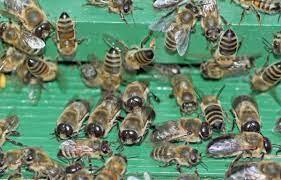worker-bee: (149, 1, 200, 55), (103, 32, 154, 71), (206, 132, 271, 159), (84, 93, 121, 137), (150, 117, 211, 143), (150, 142, 202, 171), (53, 99, 89, 139), (118, 105, 154, 144), (199, 85, 226, 132), (57, 138, 112, 159), (121, 81, 159, 111), (55, 11, 79, 58), (231, 94, 261, 131), (250, 55, 280, 91), (170, 74, 197, 113), (214, 28, 240, 66), (100, 47, 122, 91), (25, 58, 58, 81)
